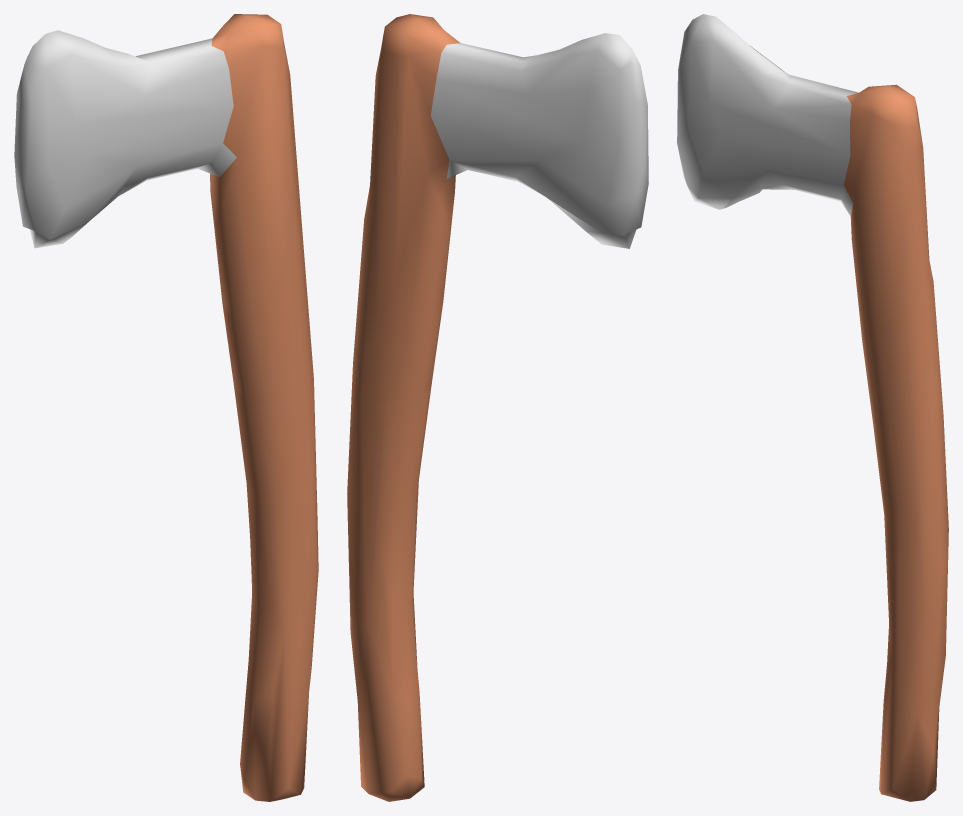
File: axe_mesh.glb
3 views of the same model, side by side, from view 1: azimuth 30°, elevation 25°; view 2: azimuth 150°, elevation 25°; view 3: azimuth 330°, elevation 25° (orthographic). The views are drawn at different scales.
Visible parts, largest first — view 1: Axe; view 2: Axe; view 3: Axe.
Part boxes in pixels (x1,y1,x2,y2): Axe: [14, 14, 318, 801]; Axe: [347, 14, 648, 801]; Axe: [677, 14, 948, 801].
Size of the model in its own units: 0.2673 by 0.7043 by 0.0494.
